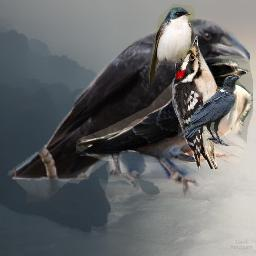Crow: (3, 16, 250, 202), (178, 73, 241, 146)
Swallow: (74, 57, 253, 163), (149, 4, 195, 85)
Woodpecker: (172, 36, 234, 169)
